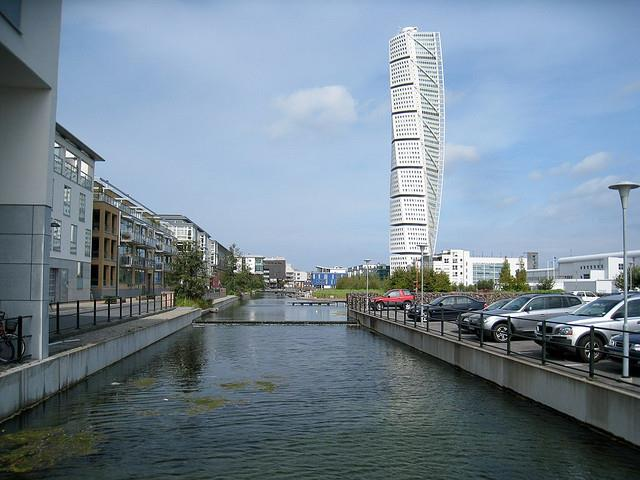turinng_torso: (383, 23, 447, 281)
